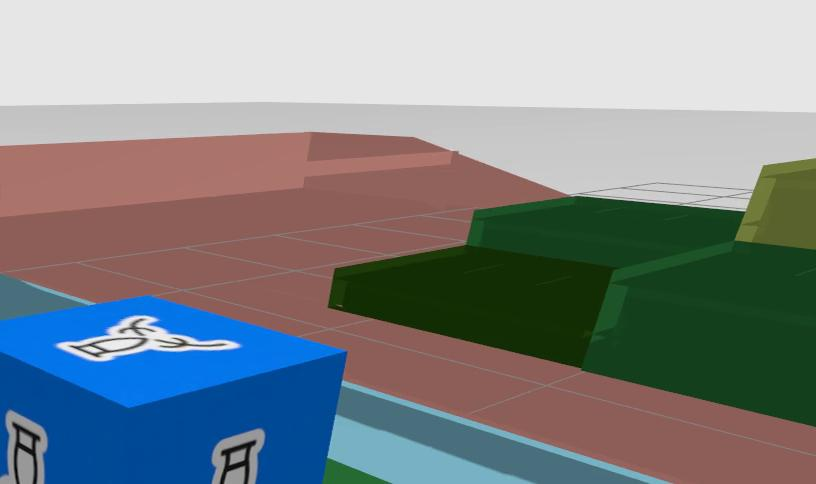KFS_REAL: (0, 297, 345, 484), (58, 315, 238, 361), (0, 411, 47, 484), (211, 430, 264, 484)
